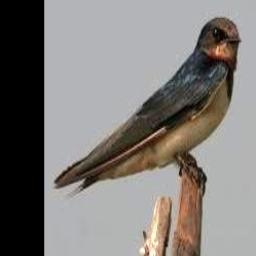Swallow: (53, 19, 241, 194)
